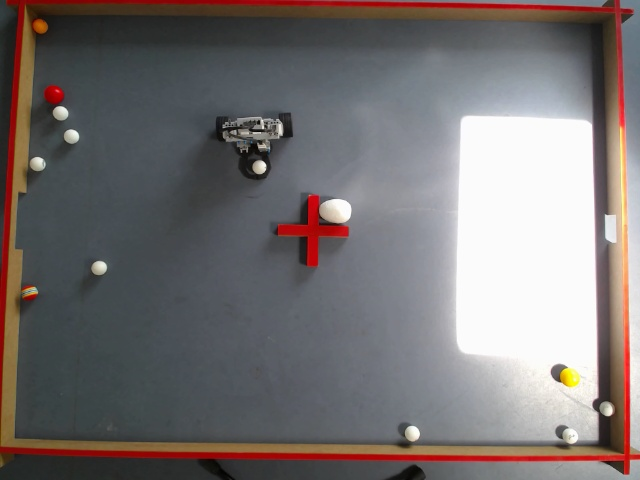big_goal: (14, 192, 27, 252)
cross: (276, 195, 348, 267)
egg: (318, 198, 351, 222)
orange: (31, 17, 49, 35)
robot: (215, 113, 294, 180)
small_goal: (604, 213, 615, 245)
wall: (14, 14, 610, 446)
white: (90, 260, 106, 276), (404, 426, 421, 441), (52, 105, 68, 120), (598, 402, 615, 416), (562, 428, 577, 443), (64, 129, 80, 143), (30, 156, 44, 171), (253, 159, 266, 174)
